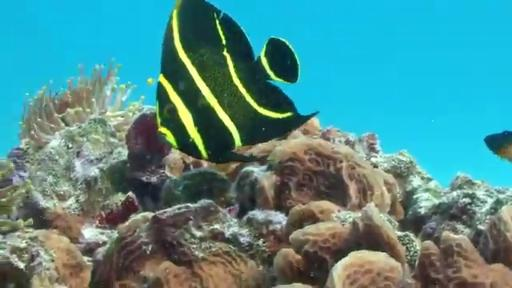Fish: (157, 0, 317, 163), (484, 131, 511, 161)
